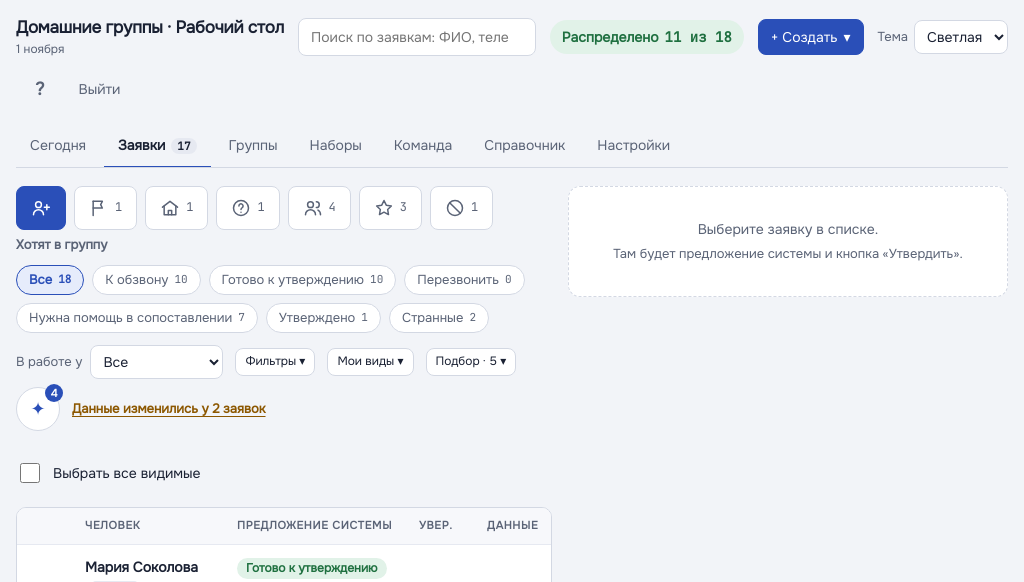
Test case: «Заявки»: экран › клик по строке открывает карточку с предложением, причинами, контактами и журналом
Click the button "Мария Соколова" at coordinates (142, 567), box [85,555,198,579]
(page scrolled)
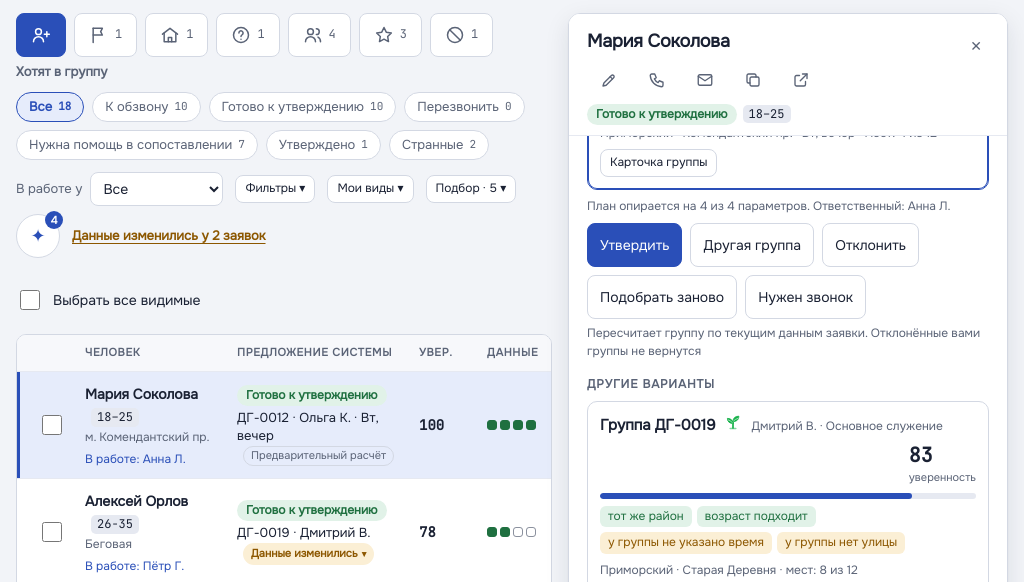
Expected: the text "Группа ДГ-0012" is shown, [600,13,715,32]
Expected: the list item "тот же район" below "Ольга К. · Основное служение" is shown, [608,72,684,88]
Expected: the text "План опирается на 4 из 4 параметров. Ответственный: Анна Л." is shown, [587,198,989,215]
